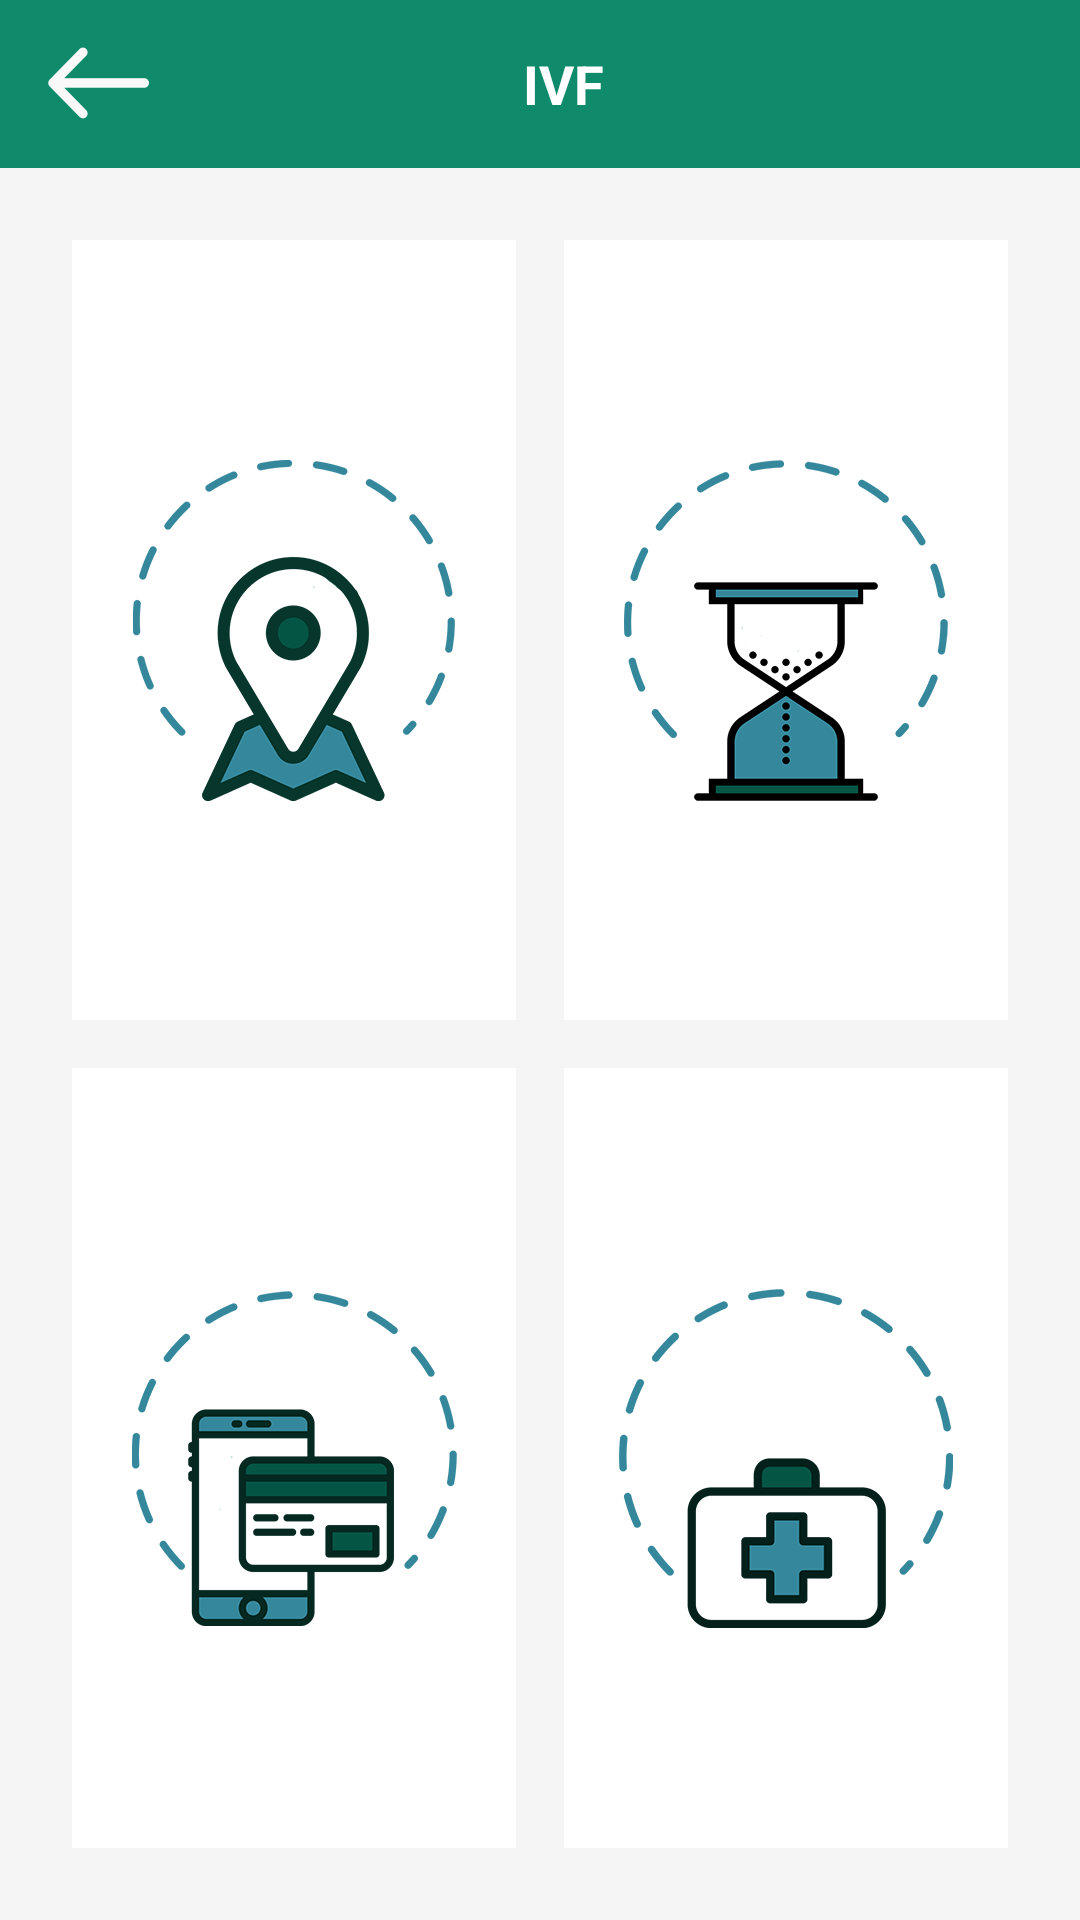

Locate icon controls on the screen. Image size 1080 x 1920, boxes as (x1, y1, x2, y2).
Back Button: (48, 47, 149, 119)
